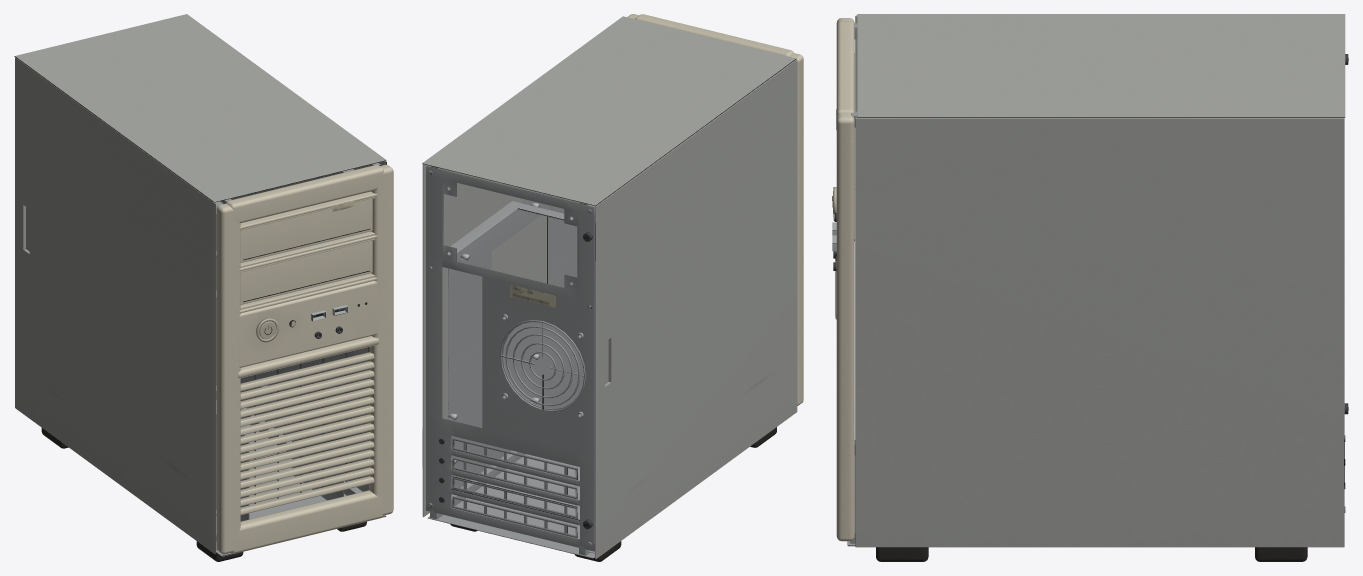
File: PC_Case_Student_01_LOD0.fbx
The picture shows the model from 3 angles, left to right: view 1: azimuth 30°, elevation 25°; view 2: azimuth 150°, elevation 25°; view 3: azimuth 270°, elevation 25°; orthographic projection. The views are drawn at different scales.
Visible parts, largest first — view 1: Chassis_LOD0, SidePanel_Removable_LOD0; view 2: Chassis_LOD0, SidePanel_Removable_LOD0, ExpansionCover_1_LOD0, ExpansionCover_2_LOD0, ExpansionCover_3_LOD0, ExpansionCover_0_LOD0; view 3: Chassis_LOD0.
Boxes of the visible parts, <box> form: Chassis_LOD0: <box>14,14,393,561</box>; SidePanel_Removable_LOD0: <box>15,57,222,553</box>; Chassis_LOD0: <box>422,14,803,561</box>; SidePanel_Removable_LOD0: <box>583,59,797,559</box>; ExpansionCover_1_LOD0: <box>452,476,577,518</box>; ExpansionCover_2_LOD0: <box>452,457,577,499</box>; ExpansionCover_3_LOD0: <box>452,437,577,479</box>; ExpansionCover_0_LOD0: <box>452,496,577,538</box>; Chassis_LOD0: <box>832,14,1345,561</box>.
Bounding box in the file's own units: 0.19 × 0.389 × 0.402.
